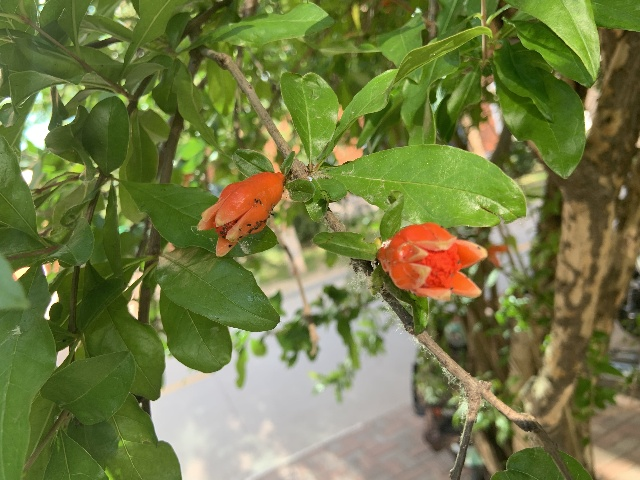flower: (377, 222, 486, 301), (196, 171, 283, 257)
